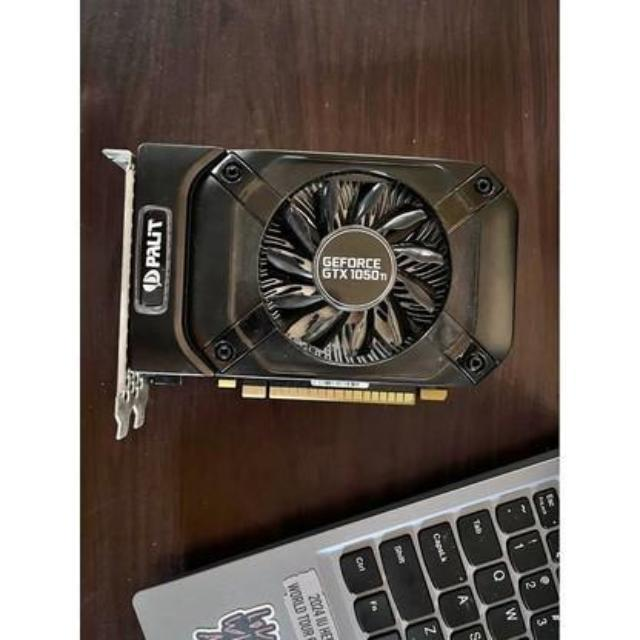GPU: (130, 137, 516, 408)
